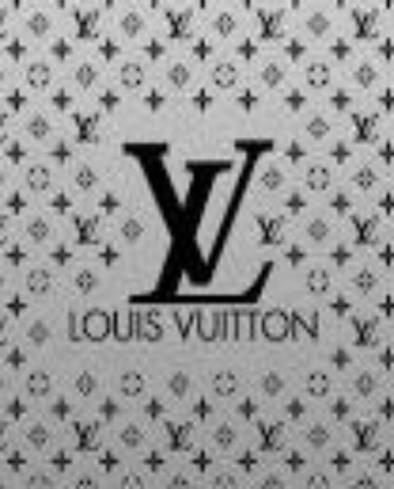LOUIS-VUITTON: (108, 131, 283, 310), (53, 301, 322, 354)
